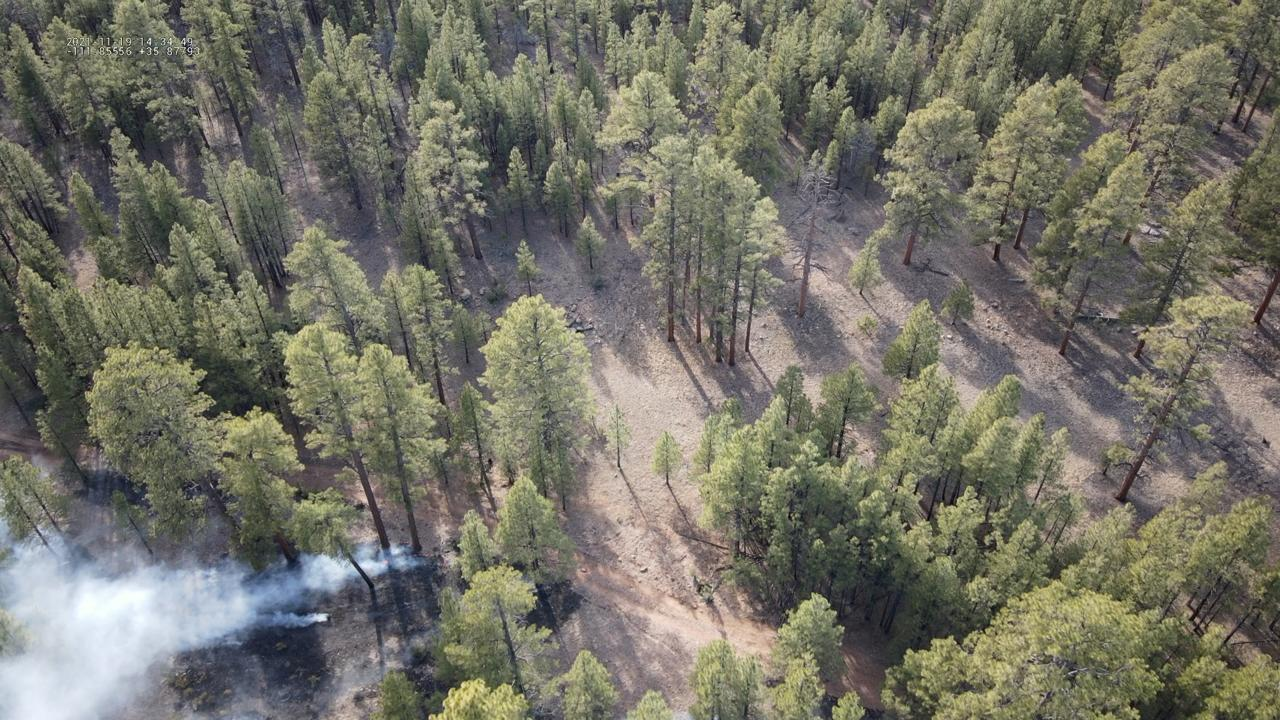fire: (382, 560, 388, 565)
smoke: (0, 508, 431, 720)
